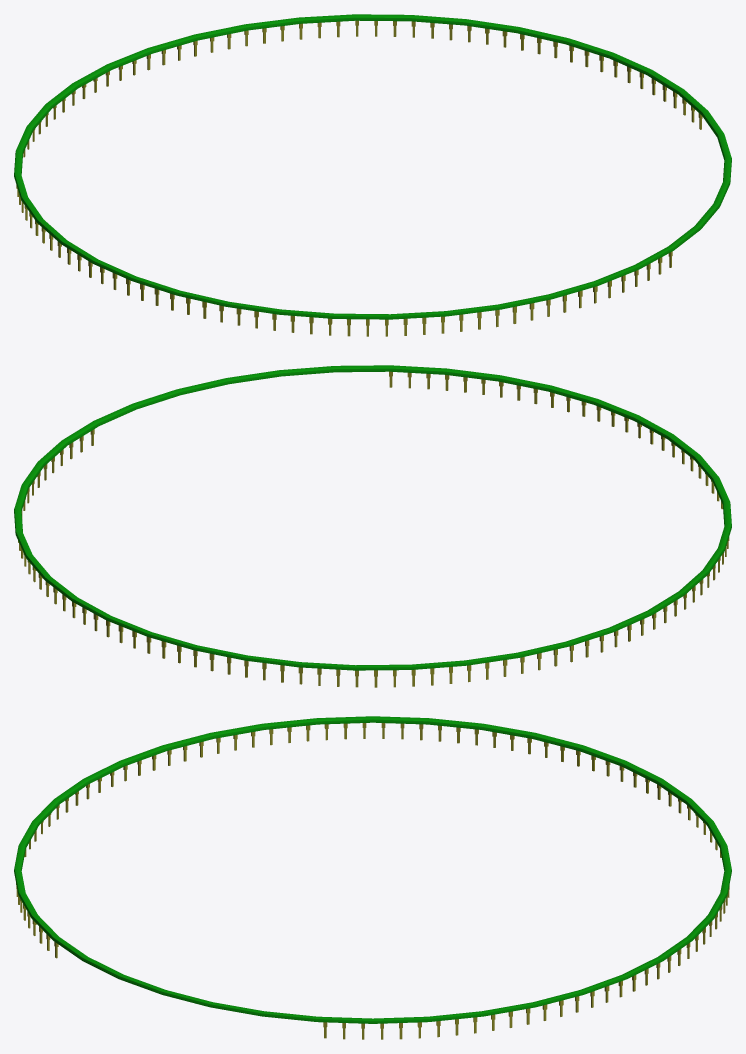
The model's file is varanda corte.fbx.
3 renders of one model, top to bottom at view 1: azimuth 30°, elevation 25°; view 2: azimuth 150°, elevation 25°; view 3: azimuth 270°, elevation 25°, orthographic.
Parts seen in each view (by area): view 1: Object001; view 2: Object001; view 3: Object001.
Boxes of the visible parts, x1,y1,x2,y2 form: Object001: [14, 14, 731, 319]; Object001: [14, 365, 731, 670]; Object001: [14, 716, 731, 1023].
Size of the model in its own units: 1278 by 41.47 by 1272.
